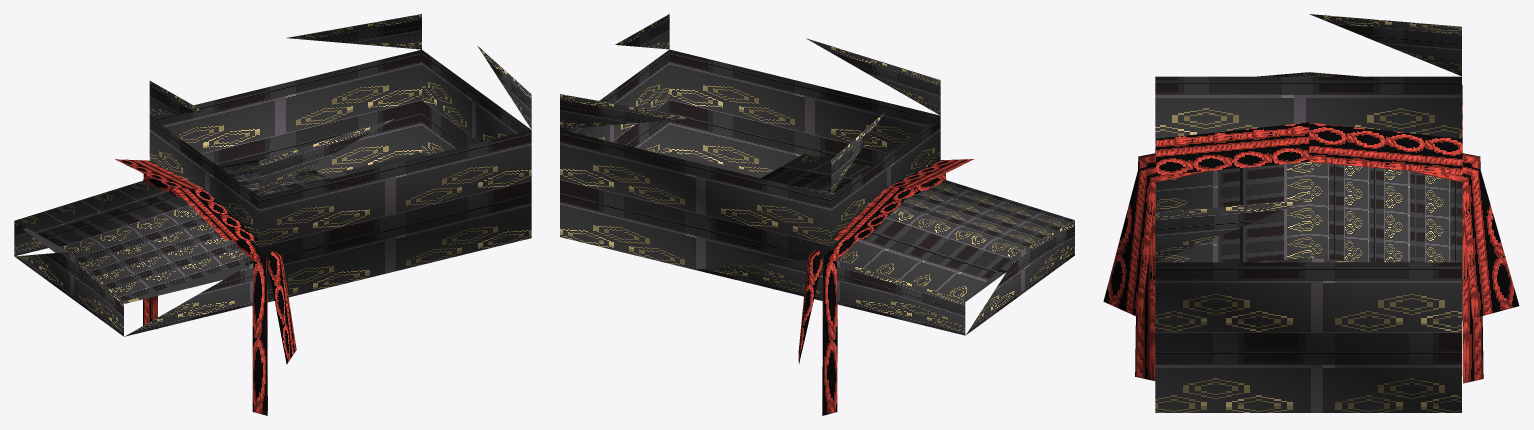
Rendered from 3440IMSY01_02.gltf.
3 renders of one model, left to right at view 1: azimuth 30°, elevation 25°; view 2: azimuth 150°, elevation 25°; view 3: azimuth 270°, elevation 25°, orthographic. The views are drawn at different scales.
Parts seen in each view (by area): view 1: 3440IMSY01_02; view 2: 3440IMSY01_02; view 3: 3440IMSY01_02.
Part boxes in pixels (x1=…): 3440IMSY01_02: x1=14, y1=14, x2=531, y2=415; 3440IMSY01_02: x1=560, y1=14, x2=1074, y2=415; 3440IMSY01_02: x1=1103, y1=14, x2=1519, y2=412.
Size of the model in its own units: 1.48 by 0.9058 by 0.9377.
3 materials, 3 textured.
